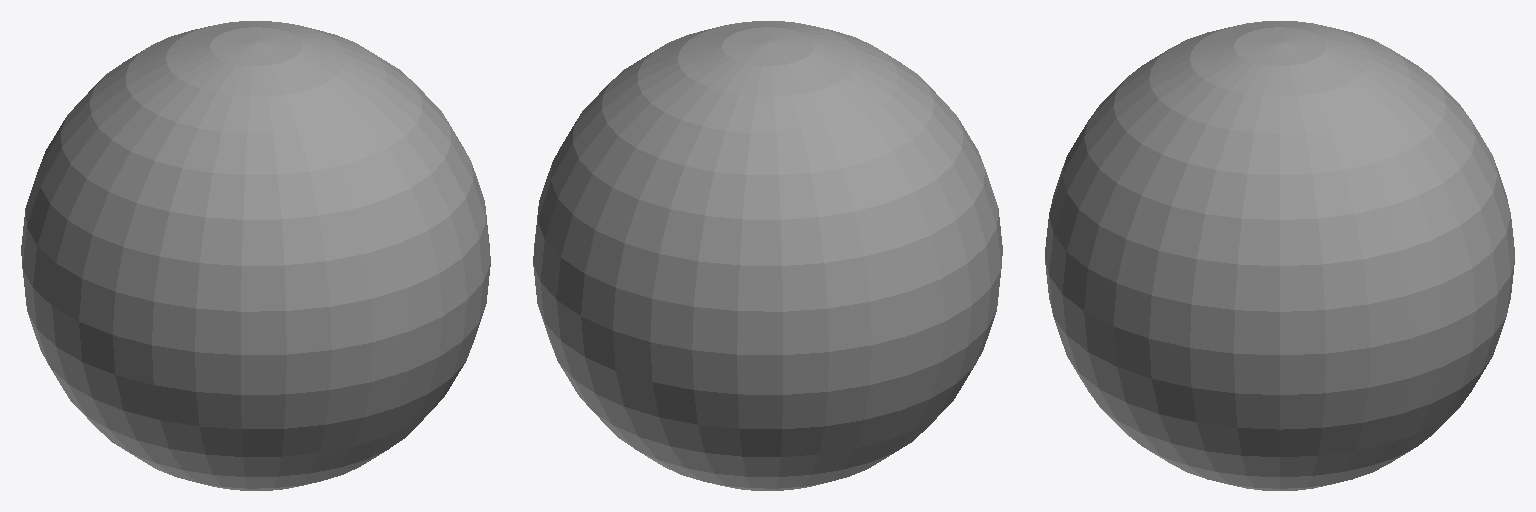
File: earth.obj
3 views of the same model, side by side, from view 1: azimuth 30°, elevation 25°; view 2: azimuth 150°, elevation 25°; view 3: azimuth 270°, elevation 25° (orthographic).
Visible parts, largest first — view 1: Sphere; view 2: Sphere; view 3: Sphere.
Part boxes in pixels (left/top/right/bottom): Sphere: left=21, top=21, right=490, bottom=490; Sphere: left=533, top=21, right=1002, bottom=490; Sphere: left=1045, top=21, right=1514, bottom=490.
Size of the model in its own units: 1.74 by 1.74 by 1.74.